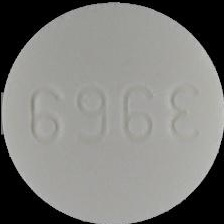0591-2521: (0, 0, 224, 224)
